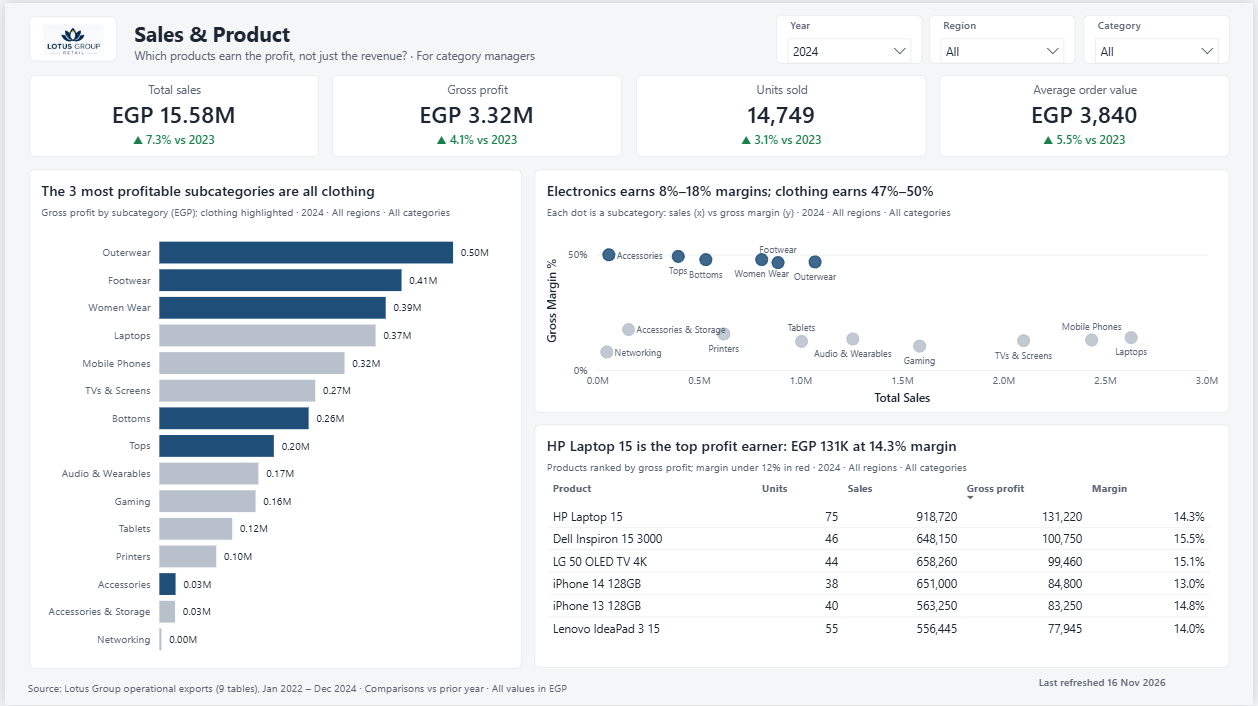

Layout of this report page (visuals, bound fields, positions):
{"tool":"powerbi","page":{"name":"Sales and Product Performance","canvas":[1280,720],"ordinal":1},"visuals":[{"type":"slicer","fields":{"Values":["dim_date.full_date.Variation.Date Hierarchy.Year","dim_date.full_date.Variation.Date Hierarchy.Quarter","dim_date.full_date.Variation.Date Hierarchy.Month"]},"box":[814.1,8.2,149.4,62.4],"z":0},{"type":"cardVisual","fields":{"Data":["_Measures.Total Sales","_Measures.Units Sold","_Measures.Total Orders","_Measures.Average Order Value","_Measures.Gross Profit"]},"box":[4,102.2,1266.3,65],"z":1000},{"type":"textbox","box":[4.6,9.2,304.3,86.5],"z":2000},{"type":"clusteredColumnChart","title":"Sales by Category","fields":{"Category":["dim_products.category"],"Y":["_Measures.Total Sales"]},"box":[8.1,176.4,446.1,169.5],"z":3000},{"type":"lineChart","title":"Sales Trend by Category","fields":{"Y":["_Measures.Total Sales"],"Category":["dim_date.full_date"],"Series":["dim_products.category"]},"box":[462.3,177.5,811.6,169.5],"z":4000},{"type":"clusteredBarChart","title":"Sales by Subcategory","fields":{"Category":["dim_products.subcategory"],"Y":["_Measures.Total Sales"]},"box":[6.9,353.9,662.9,181],"z":5000},{"type":"clusteredColumnChart","title":"Gross Margin by Category","fields":{"Y":["_Measures.Gross Margin %"],"Category":["dim_products.category"]},"box":[803.5,544.1,468,170.6],"z":6000},{"type":"tableEx","title":"Product Performance","fields":{"Values":["dim_products.product_id","dim_products.product_name_raw","dim_products.category","dim_products.subcategory","_Measures.Units Sold","_Measures.Total Sales","_Measures.Average Selling Price","_Measures.Gross Profit","_Measures.Gross Margin %"]},"box":[4.6,544.1,786.2,169.5],"z":7000},{"type":"clusteredBarChart","title":"Top 10 Products By Sales","fields":{"Y":["_Measures.Total Sales"],"Category":["dim_products.product_name_raw"]},"box":[679,353.9,591.4,181],"z":8000},{"type":"slicer","fields":{"Values":["dim_date.Period Type"]},"box":[974.1,8.2,161.2,62.4],"z":9000},{"type":"slicer","fields":{"Values":["dim_customers.loyalty_tier"]},"box":[1130.9,8,138,62.4],"z":10000}]}

Visuals, with their boxes in screenshot pixels (x1, y1, x2, y2), scaled from the page's 1280x720 canvas onto the 1258x706 screenshot:
slicer - dim_date.full_date.Variation.Date Hierarchy.Year x dim_date.full_date.Variation.Date Hierarchy.Quarter: 800/8/947/69
cardVisual - _Measures.Total Sales x _Measures.Units Sold: 4/100/1248/164
textbox: 5/9/304/94
"Sales by Category" clusteredColumnChart: 8/173/446/339
"Sales Trend by Category" lineChart: 454/174/1252/340
"Sales by Subcategory" clusteredBarChart: 7/347/658/524
"Gross Margin by Category" clusteredColumnChart: 790/534/1250/701
"Product Performance" tableEx: 5/534/777/700
"Top 10 Products By Sales" clusteredBarChart: 667/347/1249/524
slicer - dim_date.Period Type: 957/8/1116/69
slicer - dim_customers.loyalty_tier: 1111/8/1247/69
